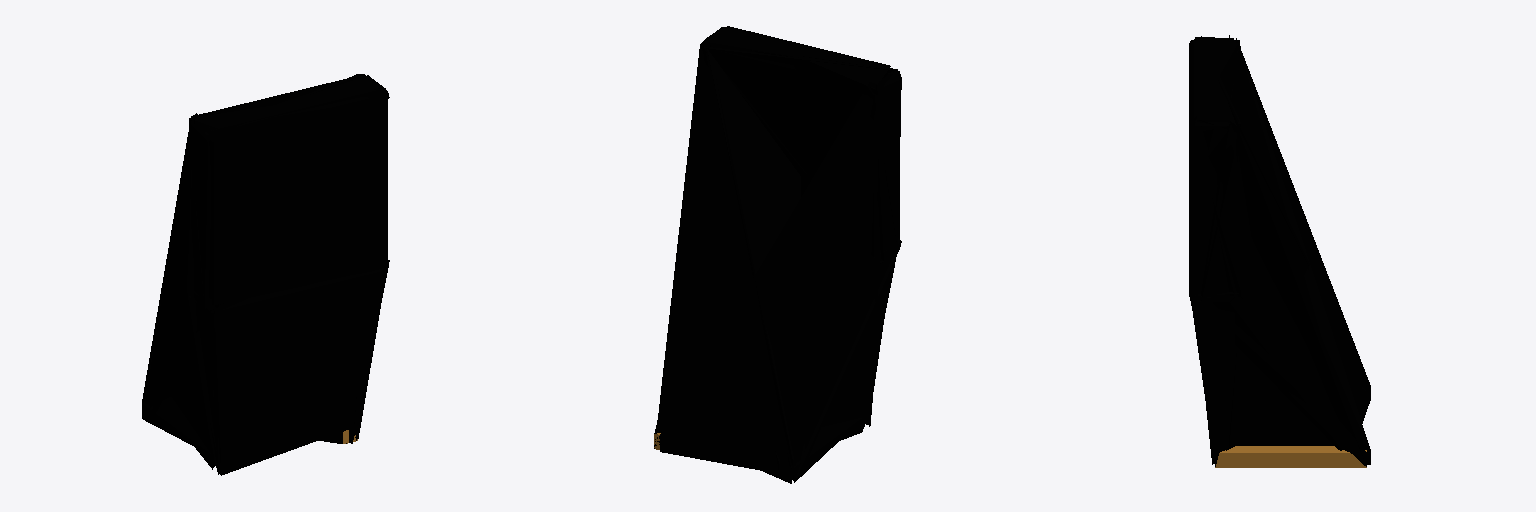
File: Barstool.obj
3 renders of one model, left to right at view 1: azimuth 30°, elevation 25°; view 2: azimuth 150°, elevation 25°; view 3: azimuth 270°, elevation 25°, orthographic.
Visible parts, largest first — view 1: Box005; view 2: Box005; view 3: Box005, Box001.
Boxes of the visible parts, <box> form: Box005: <box>142,74,389,475</box>; Box005: <box>654,26,901,483</box>; Box005: <box>1189,35,1370,466</box>; Box001: <box>1215,446,1366,467</box>.
Bounding box in the file's own units: 196220 × 368461 × 169647.